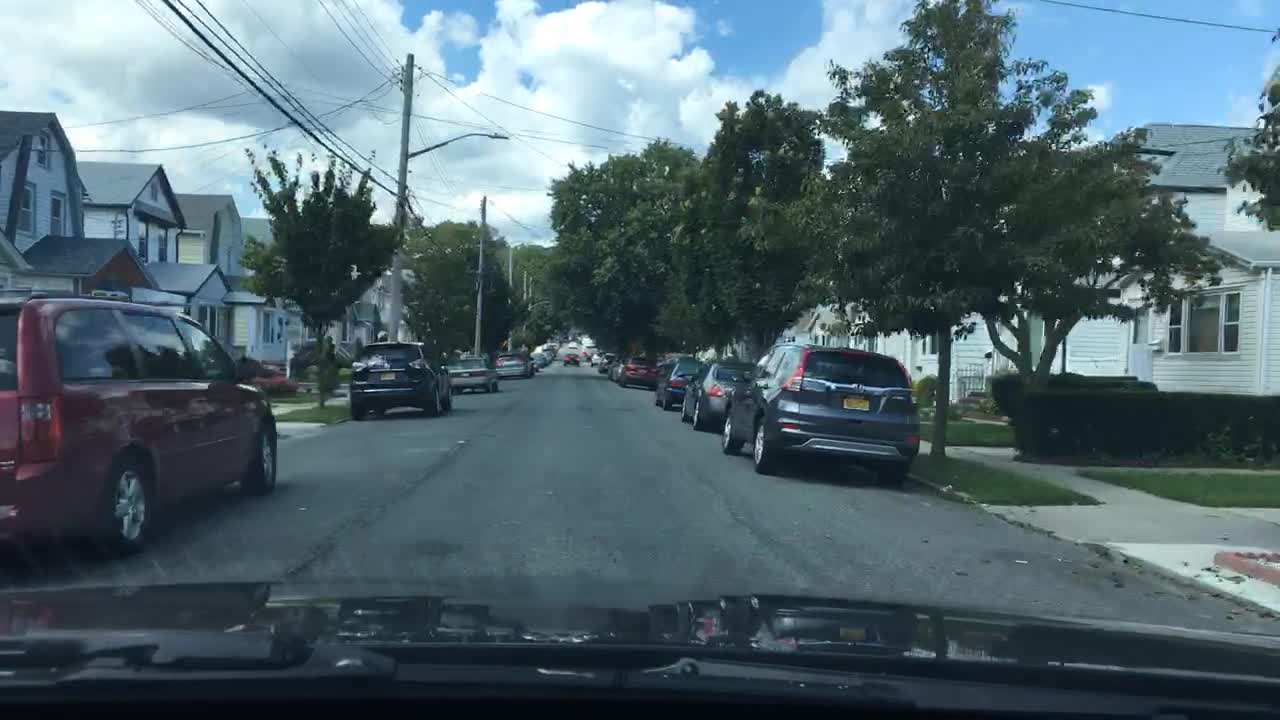car: (1, 296, 278, 557), (721, 342, 921, 485), (350, 340, 454, 421), (679, 357, 765, 430), (655, 356, 711, 409), (441, 350, 499, 394), (616, 354, 659, 387), (494, 350, 535, 378), (598, 352, 619, 373), (529, 351, 549, 371), (590, 350, 608, 366), (563, 352, 582, 366), (539, 350, 556, 362), (542, 343, 556, 350), (565, 343, 577, 349)
